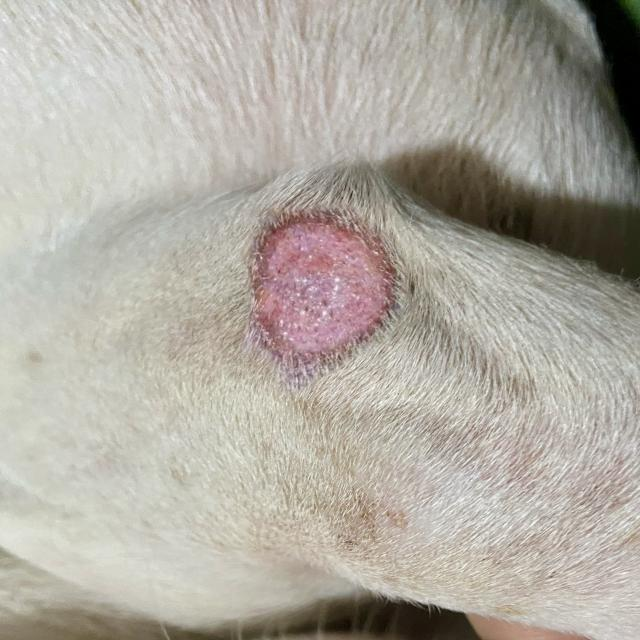ringworm: (219, 212, 427, 373)
